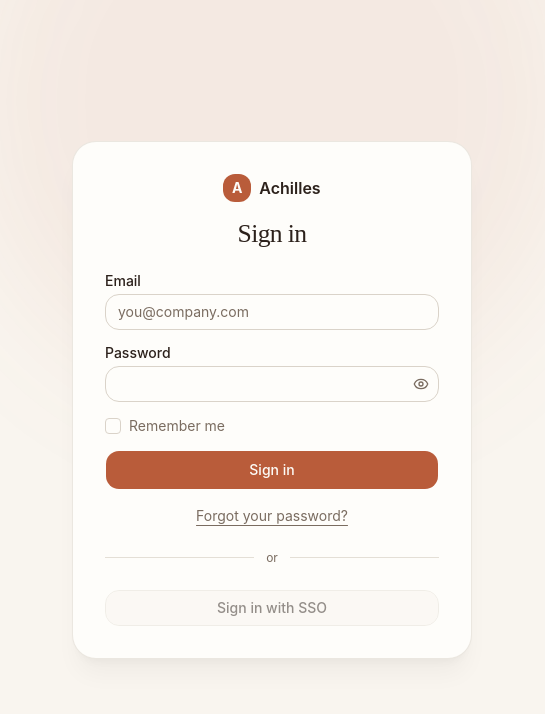
Test case: LoginPage › counts down and blocks resubmit when rate limited
The width and height of the screenshot is (545, 714).
Step 1. Type "m@acme.example" into the field labelled "Email" → (272, 312), box [105,294,439,330]
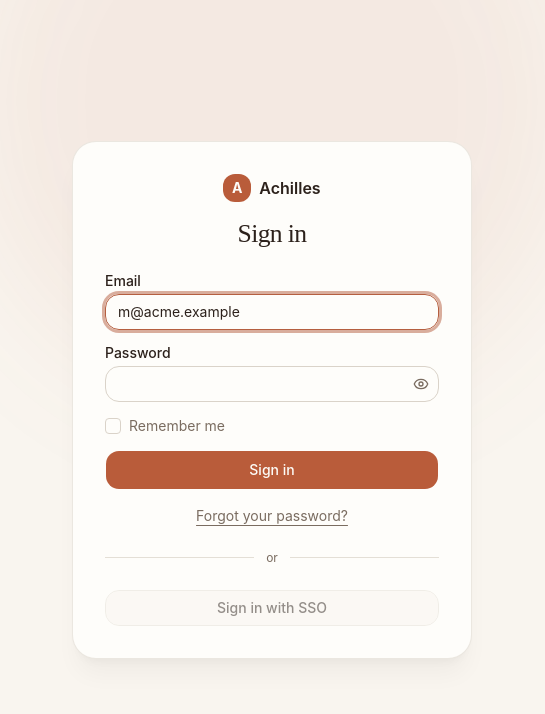
Step 2. Type "correct-horse-battery-staple" into the password field labelled "Password" → (272, 384), box [105,366,439,402]
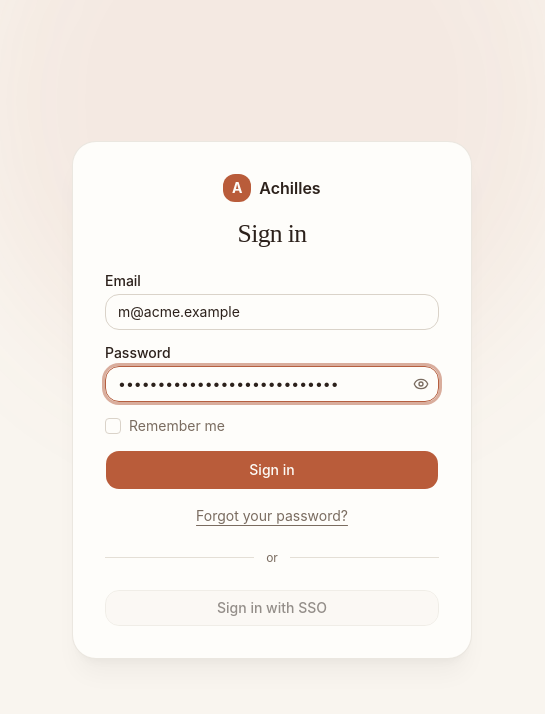
Step 3. Click the button "Sign in" → (272, 470), box [105,450,439,490]
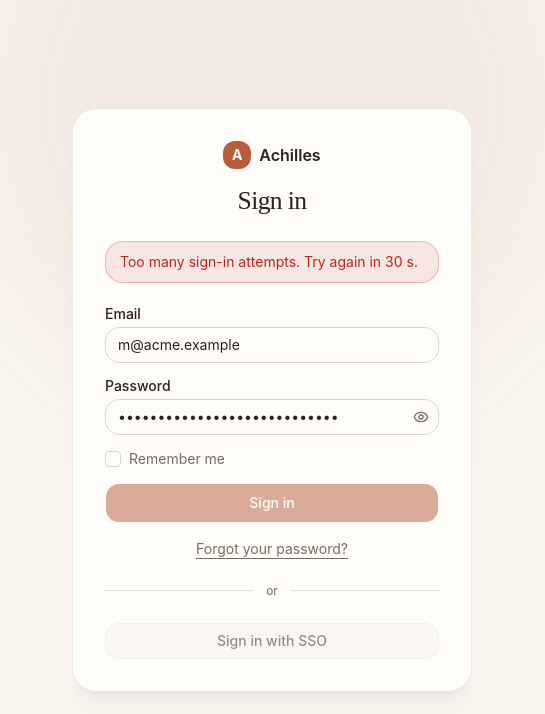
Result: the text "Too many sign-in attempts. Try again in 30 s." is shown at [105,241,439,283]
Result: the button "Sign in" is disabled at [105,483,439,523]
